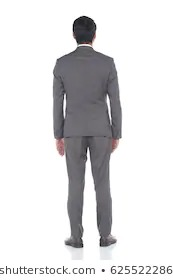F_dress pants: (62, 132, 117, 239)
